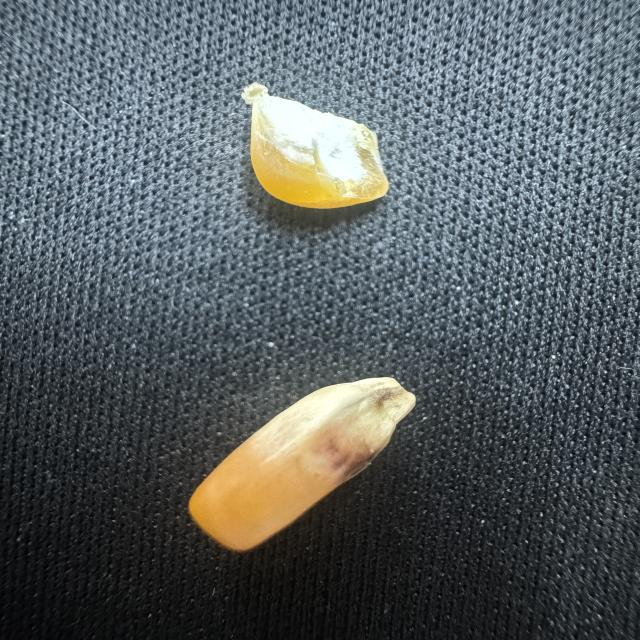Bad-Seed: (174, 357, 441, 549), (235, 75, 402, 221)
